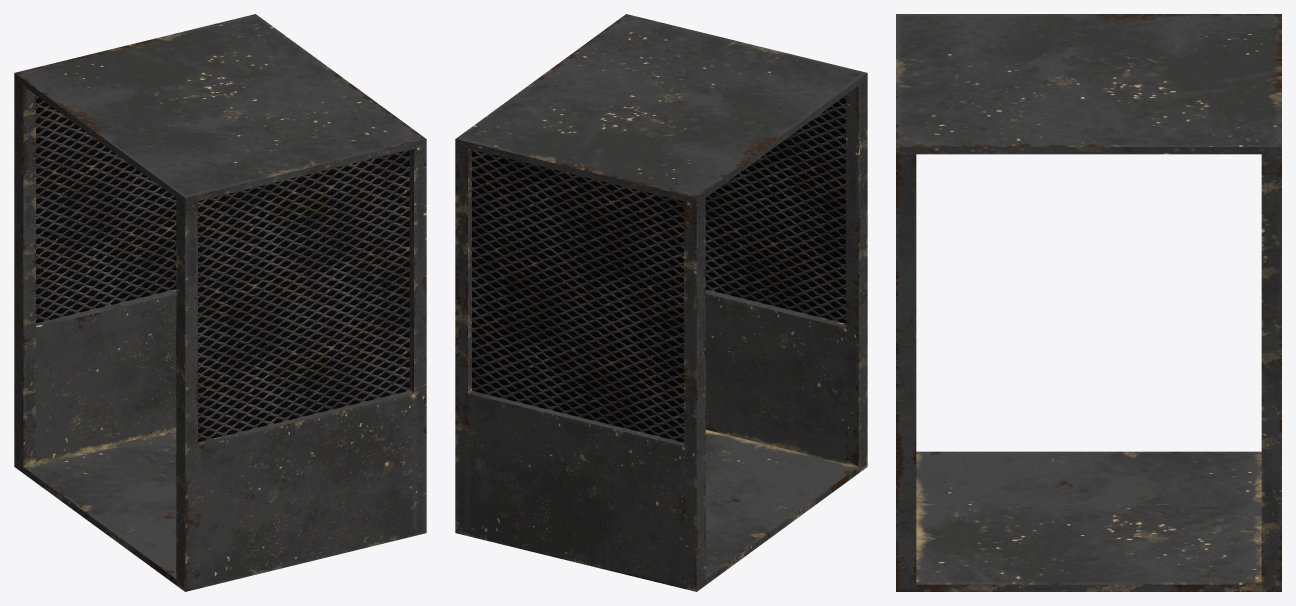
3 views of the same model, side by side, from view 1: azimuth 30°, elevation 25°; view 2: azimuth 150°, elevation 25°; view 3: azimuth 270°, elevation 25° (orthographic). The views are drawn at different scales.
Parts seen in each view (by area): view 1: objBox031; view 2: objBox031; view 3: objBox031.
Boxes of the visible parts, box(x1,y1,x2,y2) form: objBox031: box(14, 14, 426, 591); objBox031: box(455, 14, 867, 591); objBox031: box(896, 14, 1281, 591).
Bounding box in the file's own units: 23.57 × 36.77 × 28.89.
Materials: 2 (2 with a texture image).
